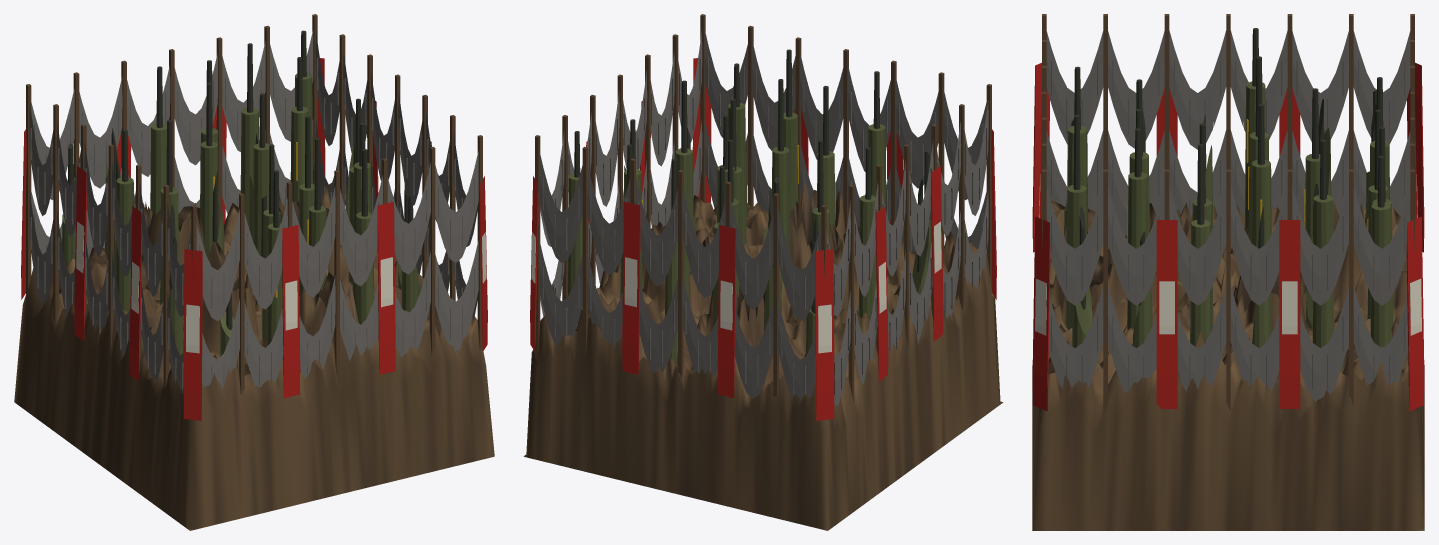
File: mine-field.glb
3 renders of one model, left to right at view 1: azimuth 30°, elevation 25°; view 2: azimuth 150°, elevation 25°; view 3: azimuth 270°, elevation 25°, orthographic. The views are drawn at different scales.
Parts seen in each view (by area): view 1: mine-field; view 2: mine-field; view 3: mine-field.
Part boxes in pixels (<box>): mine-field: <box>14,14,494,530</box>; mine-field: <box>523,14,1003,530</box>; mine-field: <box>1032,14,1424,530</box>.
Size of the model in its own units: 1 by 1 by 1.
